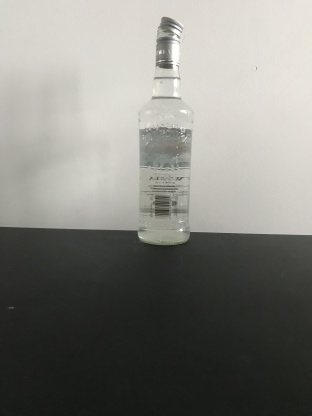nakretka: (154, 13, 185, 69)
